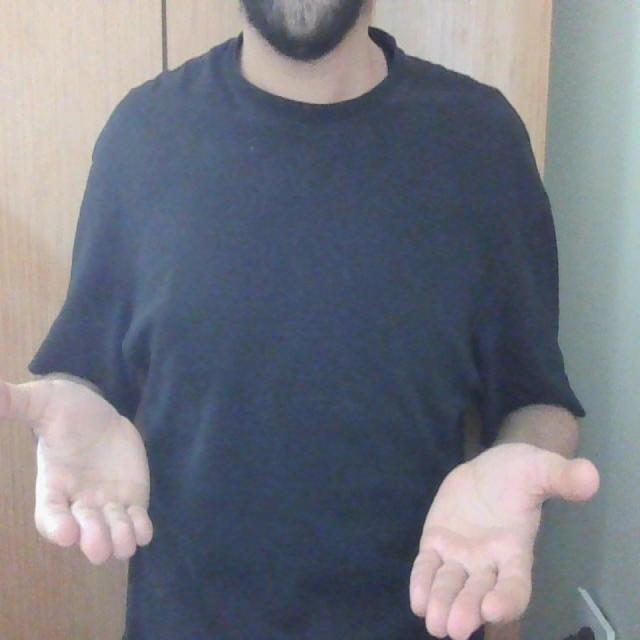Evet: (0, 376, 599, 640)
